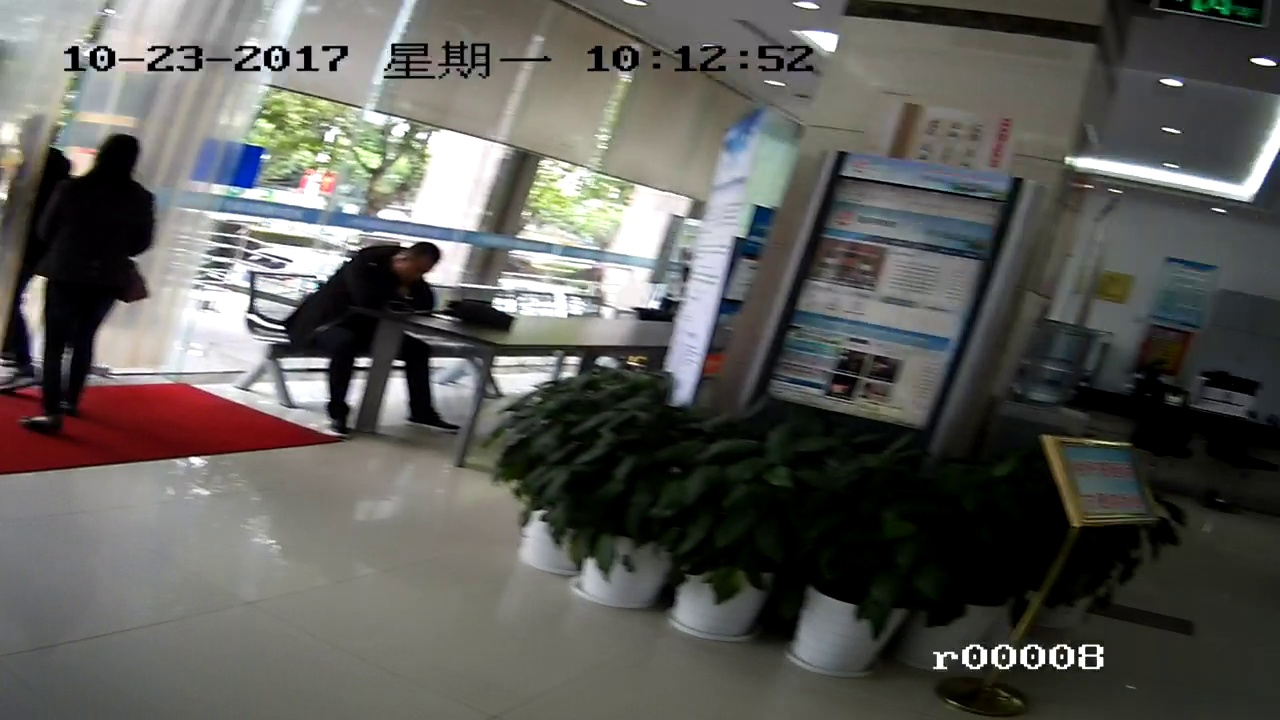billboard: (1056, 437, 1149, 527)
chair: (242, 264, 299, 395)
person: (295, 234, 450, 433), (56, 130, 148, 415)
pot: (775, 453, 903, 652), (616, 400, 712, 623), (516, 387, 605, 570)
